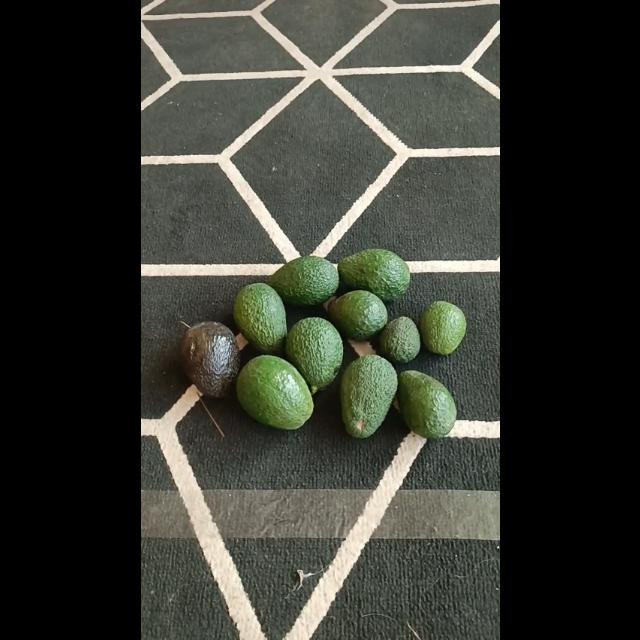Primera: (235, 354, 313, 430), (339, 354, 398, 438), (178, 320, 238, 400), (284, 317, 342, 391), (396, 369, 456, 438), (337, 248, 409, 300), (232, 283, 286, 351), (268, 256, 338, 306)
Segunda: (327, 290, 388, 340), (418, 300, 466, 356)
Tercera: (377, 316, 419, 364)
